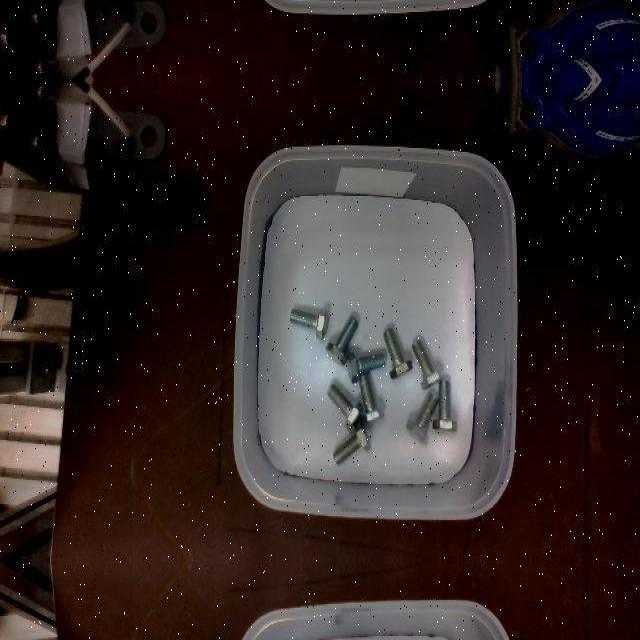screw: (406, 389, 439, 443), (326, 383, 363, 431), (332, 418, 370, 464), (325, 315, 359, 365), (411, 339, 443, 389), (382, 328, 412, 380), (356, 373, 385, 425), (432, 380, 457, 432), (346, 351, 386, 383), (290, 308, 329, 340)
